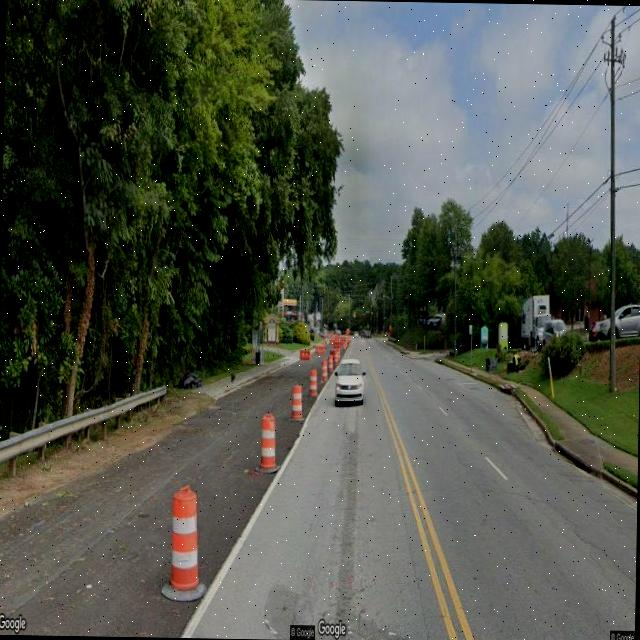seating: (487, 359, 497, 374)
shelter: (250, 322, 268, 366)
trash_can: (255, 351, 260, 364), (485, 358, 490, 370)
